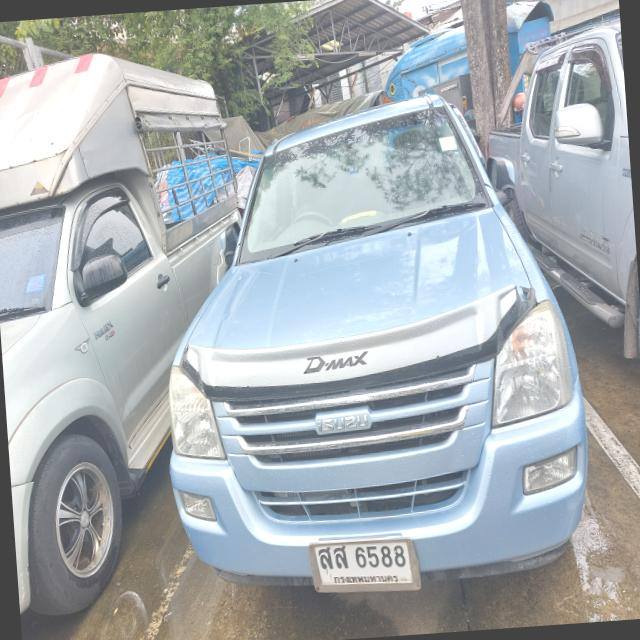license_plate: (306, 533, 422, 598)
